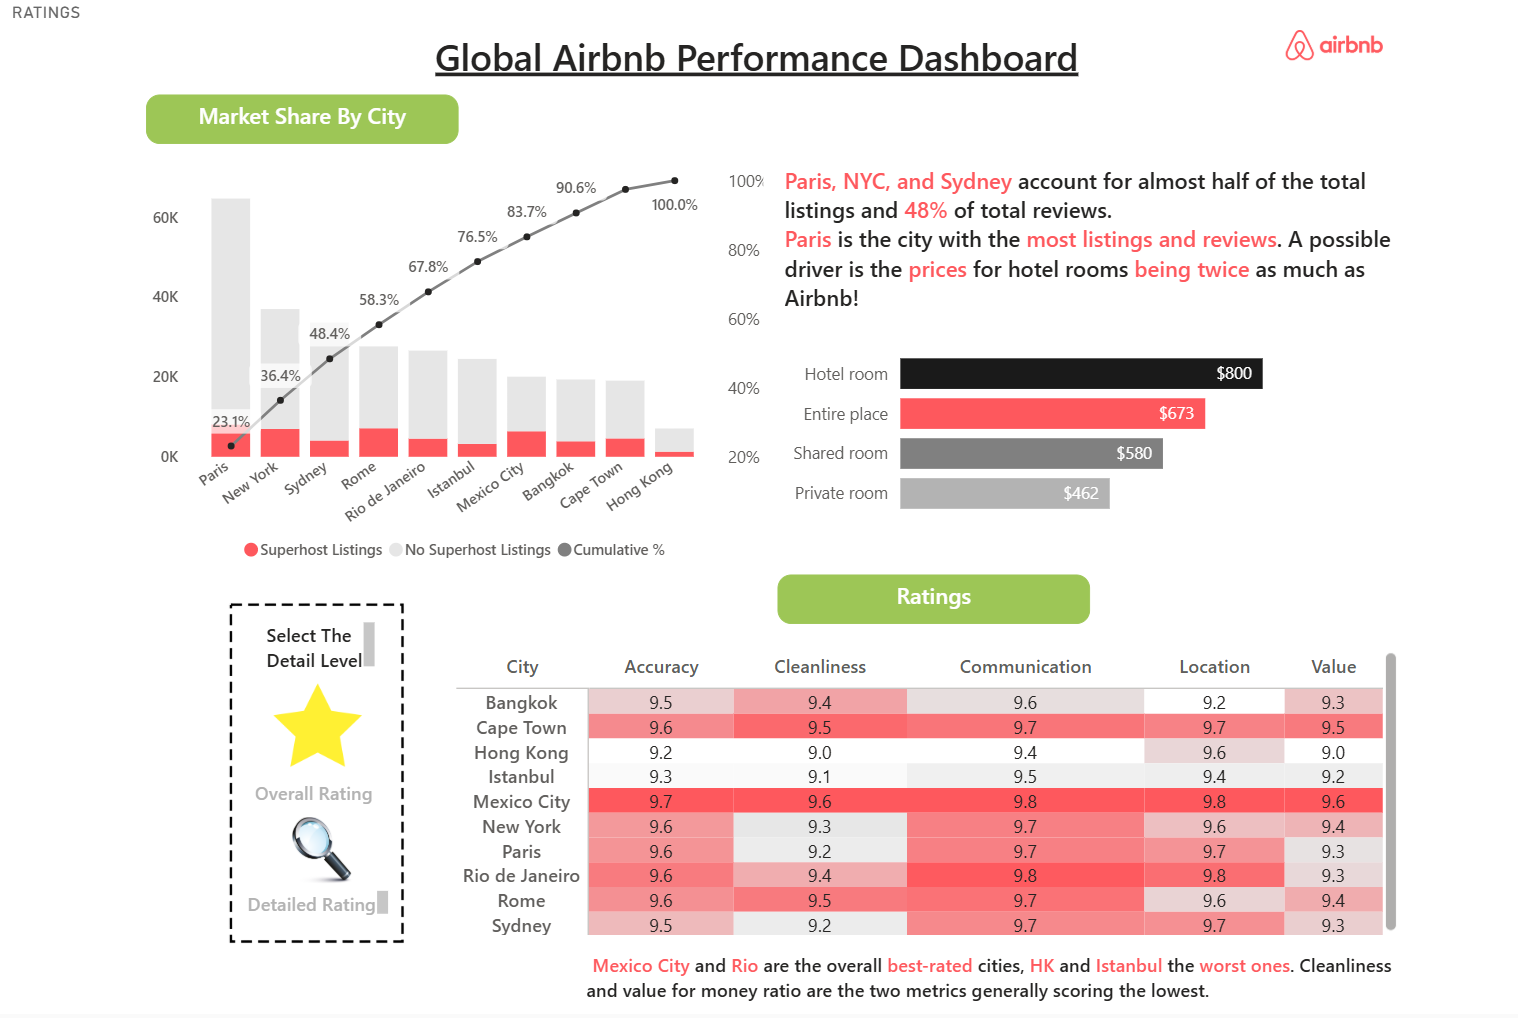

Layout of this report page (visuals, bound fields, positions):
{"tool":"powerbi","page":{"name":"Ratings","canvas":[960,720],"ordinal":1},"visuals":[{"type":"textbox","box":[231.4,0,497.1,51.8],"z":0},{"type":"image","box":[832,4,116,22],"z":1000},{"type":"textbox","box":[25.7,51.4,227.1,35.7],"z":2000},{"type":"textbox","box":[485,96.7,461.7,121.7],"z":3000},{"type":"lineStackedColumnComboChart","fields":{"Category":["Listings.city"],"Y":["Listings.Superhost Listings","Listings.No Superhost Listings"],"Y2":["Listings.Cumulative %"]},"box":[25,97,455,303],"z":4000},{"type":"barChart","fields":{"Category":["Listings.room_type"],"Y":["Listings.Avg Price"]},"box":[485,218.3,423.3,151.7],"z":5000},{"type":"image","box":[53.3,370,194,350],"z":6000},{"type":"textbox","box":[108.6,430,88.6,44.3],"z":7000},{"type":"pivotTable","fields":{"Rows":["Listings.city"],"Values":["Listings.Accuracy","Listings.Cleanliness","Listings.Communication","Listings.Location","Listings.Value"]},"box":[246.7,451.7,694.5,215.5],"z":8000},{"type":"image","box":[116.4,474.3,68.6,70.7],"z":8000,"group":"g1"},{"type":"image","box":[128.7,568.7,49.3,66.4],"z":9000,"group":"g2"},{"type":"group","id":"g1","title":"Group 1","box":[100,474.3,106.7,97.7],"z":10000},{"type":"textbox","box":[100,544,106.7,28],"z":10002,"group":"g1"},{"type":"textbox","box":[94.7,625.3,112.4,27.6],"z":10003,"group":"g2"},{"type":"group","id":"g2","title":"Group 2","box":[94.7,568.7,112.4,84.3],"z":11000},{"type":"textbox","box":[485,400,227.1,35.7],"z":12000},{"type":"textbox","box":[341.7,666.7,605,53.3],"z":13000}]}

Visuals, with their boxes on the page's 960x720 design canvas (x1, y1, x2, y2). These are canvas units, not pixel positions in the 1518x1018 screenshot, which may show the page scaled, cropped or inside an application window:
textbox: box(231, 0, 728, 52)
image: box(832, 4, 948, 26)
textbox: box(26, 51, 253, 87)
textbox: box(485, 97, 947, 218)
lineStackedColumnComboChart - Listings.city x Listings.Superhost Listings: box(25, 97, 480, 400)
barChart - Listings.room_type x Listings.Avg Price: box(485, 218, 908, 370)
image: box(53, 370, 247, 720)
textbox: box(109, 430, 197, 474)
pivotTable - Listings.city x Listings.Accuracy: box(247, 452, 941, 667)
image: box(116, 474, 185, 545)
image: box(129, 569, 178, 635)
"Group 1" group: box(100, 474, 207, 572)
textbox: box(100, 544, 207, 572)
textbox: box(95, 625, 207, 653)
"Group 2" group: box(95, 569, 207, 653)
textbox: box(485, 400, 712, 436)
textbox: box(342, 667, 947, 720)
